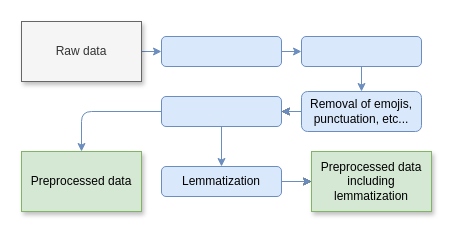
The diagram is 455 pixels wide and 236 high, and some of its shapes have lost their labels. The centre of each missing label's shape, as x and y in pixels:
Lower-casing: the point at 361,51
Spelling correction: the point at 221,111
Tokenization: the point at 221,51
